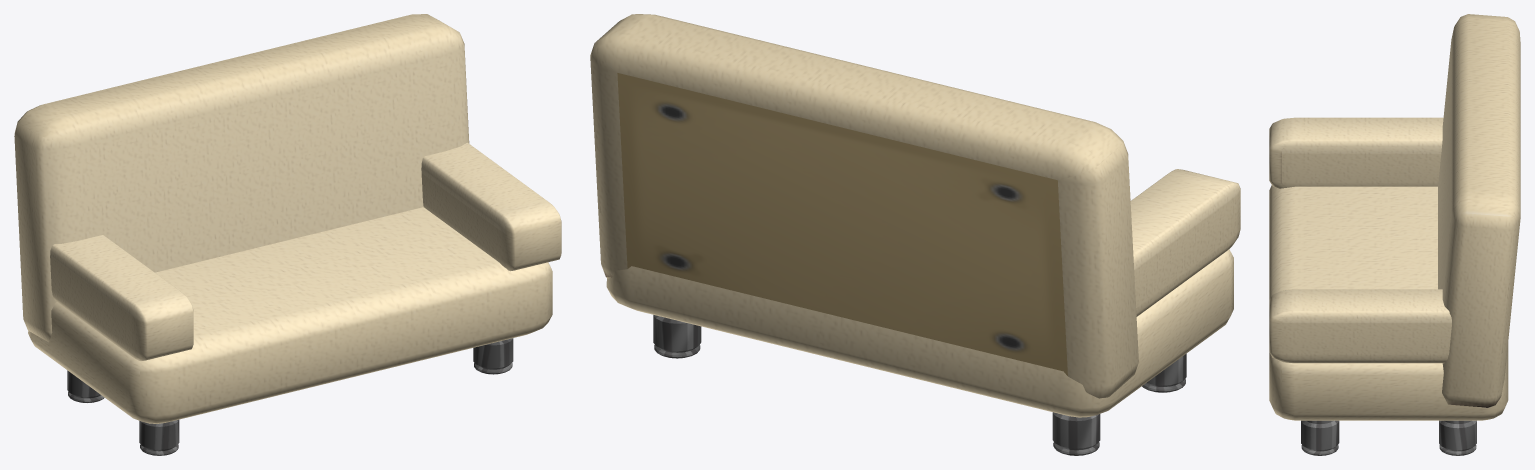
The model's file is Sofa0.FBX.
The picture shows the model from 3 angles, left to right: view 1: azimuth 30°, elevation 25°; view 2: azimuth 150°, elevation 25°; view 3: azimuth 270°, elevation 25°; orthographic projection. The views are drawn at different scales.
Parts seen in each view (by area): view 1: ChamferBox002; view 2: ChamferBox002; view 3: ChamferBox002.
Part boxes in pixels (x1,y1,x2,y2): ChamferBox002: (14, 14, 561, 455); ChamferBox002: (590, 14, 1240, 455); ChamferBox002: (1269, 14, 1520, 455).
Size of the model in its own units: 28.28 by 17.62 by 15.02.
1 material, 1 textured.
